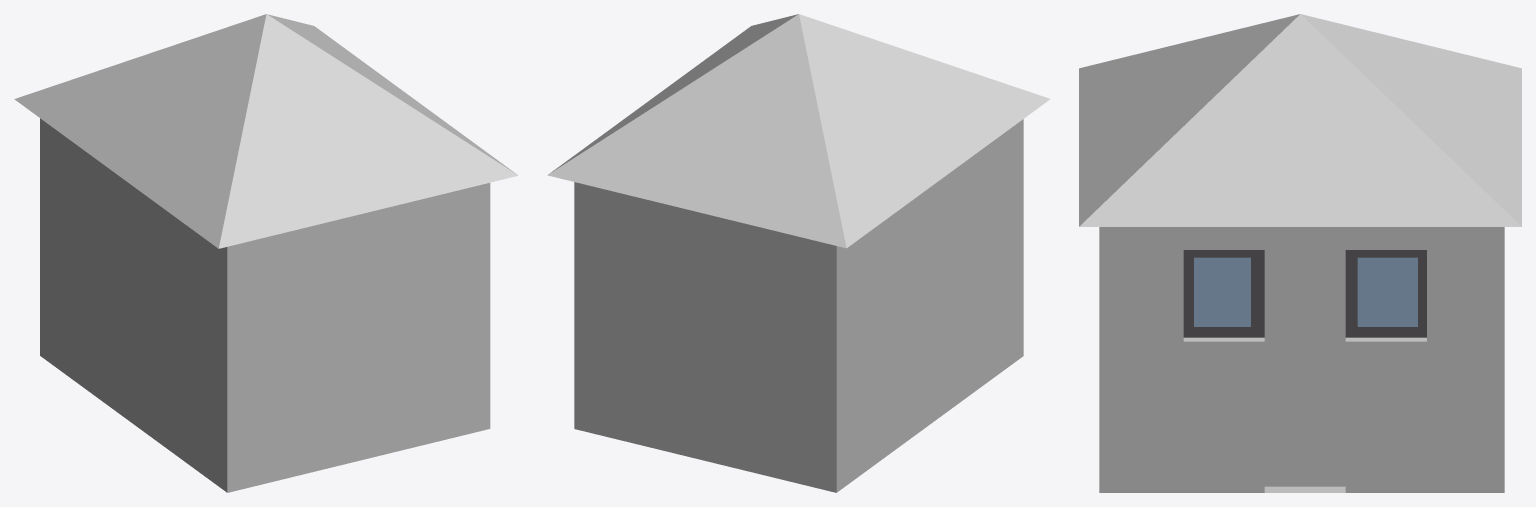
File: haus2.fbx
3 views of the same model, side by side, from view 1: azimuth 30°, elevation 25°; view 2: azimuth 150°, elevation 25°; view 3: azimuth 270°, elevation 25° (orthographic). The views are drawn at different scales.
Parts seen in each view (by area): view 1: haus; view 2: haus; view 3: haus.
Boxes of the visible parts, x1,y1,x2,y2 form: haus: [14, 14, 518, 492]; haus: [547, 14, 1050, 492]; haus: [1079, 14, 1521, 492].
Bounding box in the file's own units: 1174 × 994 × 1199.
